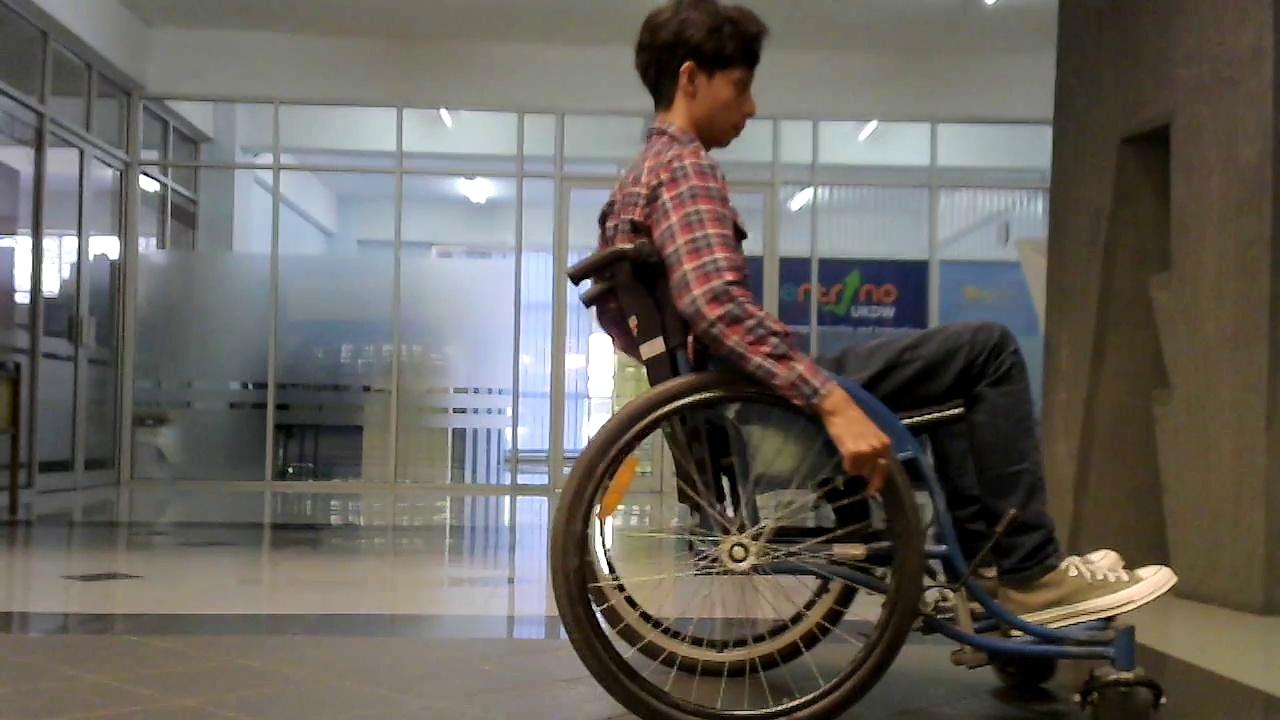person: (571, 1, 1137, 625)
wheelchair: (521, 226, 1202, 720)
